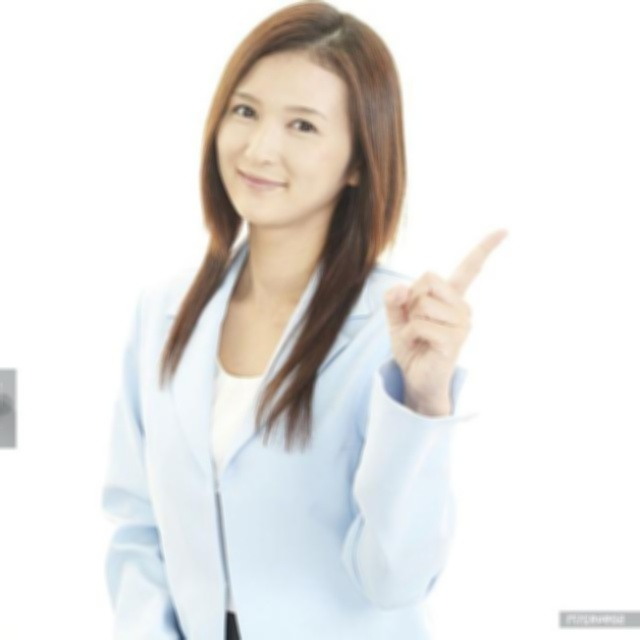Sin_Casco_Mascarrilla: (199, 0, 402, 229)
Sin_Chaleco: (118, 245, 439, 640)
